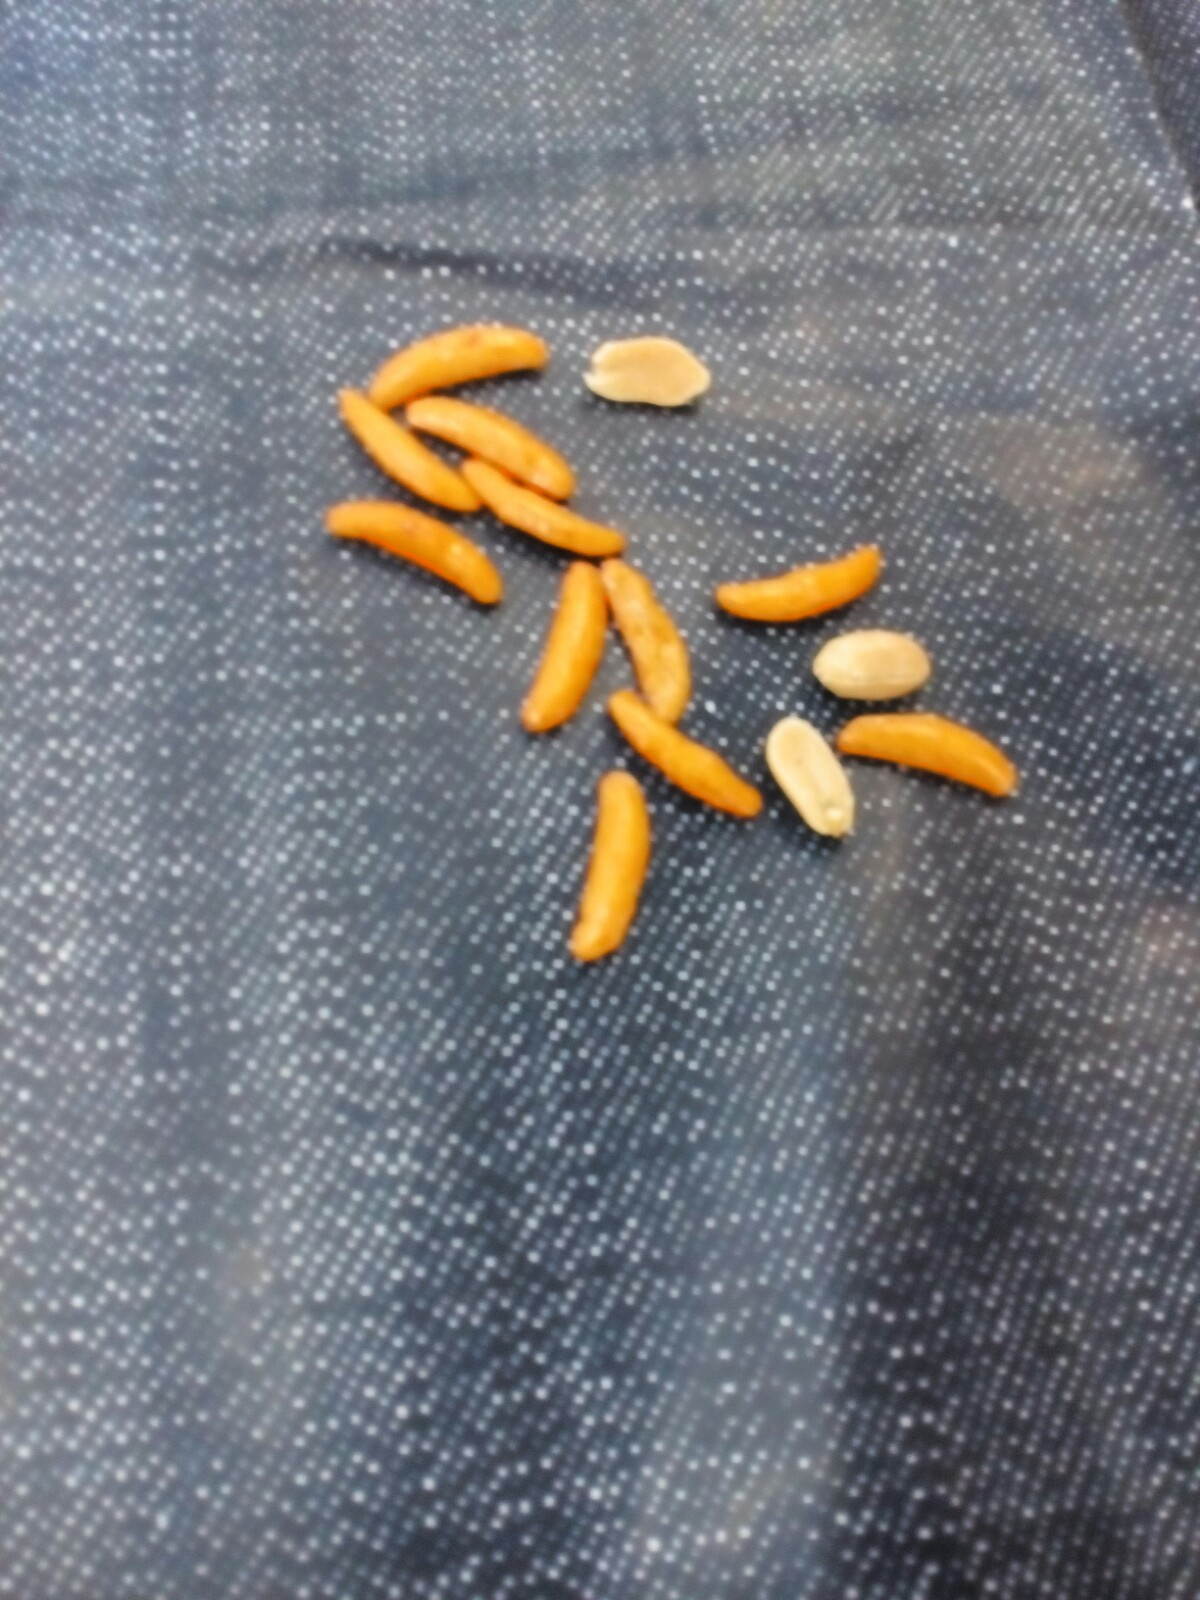peanut: (567, 325, 731, 430), (756, 706, 862, 853), (807, 625, 935, 716)
